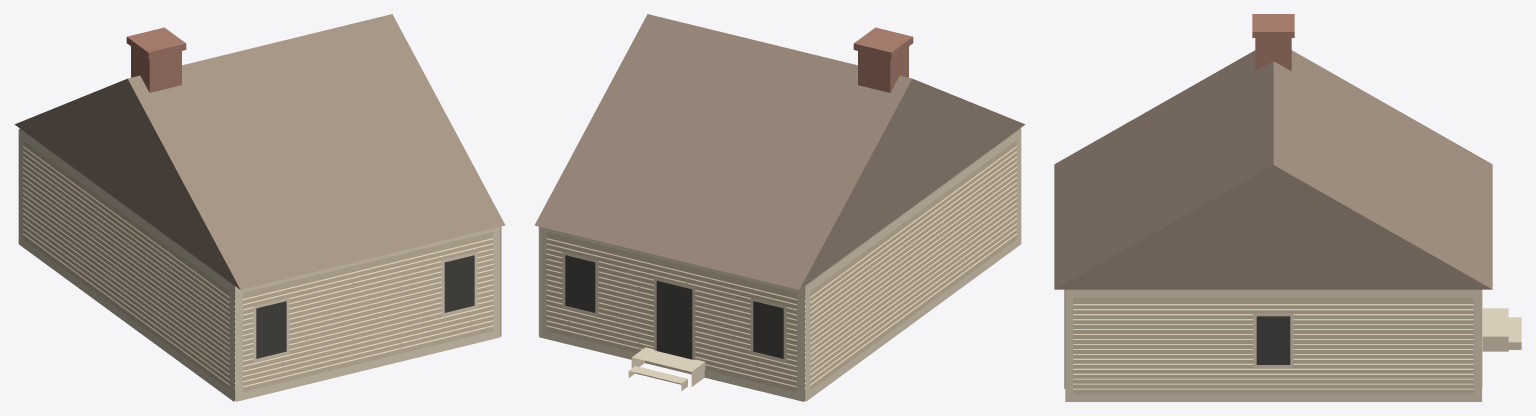
File: recon_1835_blk_south_water_dearborn_d5_08__inferred_1835.glb
3 renders of one model, left to right at view 1: azimuth 30°, elevation 25°; view 2: azimuth 150°, elevation 25°; view 3: azimuth 270°, elevation 25°, orthographic. The views are drawn at different scales.
Visible parts, largest first — view 1: recon_1835_blk_south_water_dearborn_d5_08__inferred_1835; view 2: recon_1835_blk_south_water_dearborn_d5_08__inferred_1835; view 3: recon_1835_blk_south_water_dearborn_d5_08__inferred_1835.
Part boxes in pixels (box(x1,y1,x2,y2)): recon_1835_blk_south_water_dearborn_d5_08__inferred_1835: box(14, 14, 505, 401); recon_1835_blk_south_water_dearborn_d5_08__inferred_1835: box(534, 14, 1025, 401); recon_1835_blk_south_water_dearborn_d5_08__inferred_1835: box(1054, 14, 1521, 401).
Bounding box in the file's own units: 6.94 × 6.82 × 10.82.
